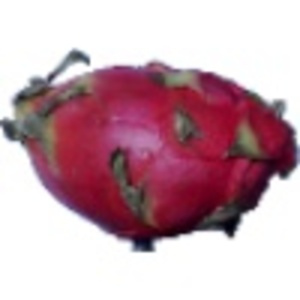pitaia: (1, 49, 300, 254)
